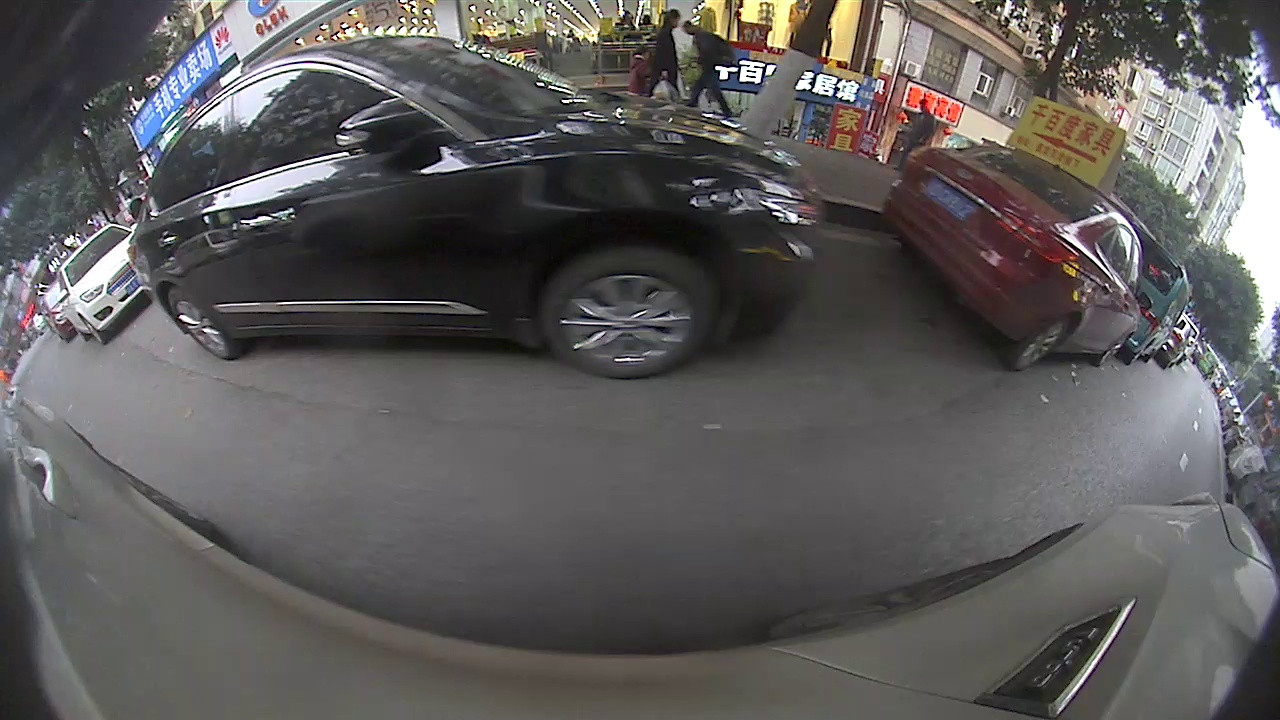car: (126, 33, 821, 382), (879, 143, 1147, 371), (56, 223, 150, 346), (1118, 230, 1191, 363)
front: (539, 242, 717, 379), (76, 315, 106, 347)
person: (655, 7, 683, 103)
rear: (157, 287, 241, 362), (1008, 313, 1073, 371)
